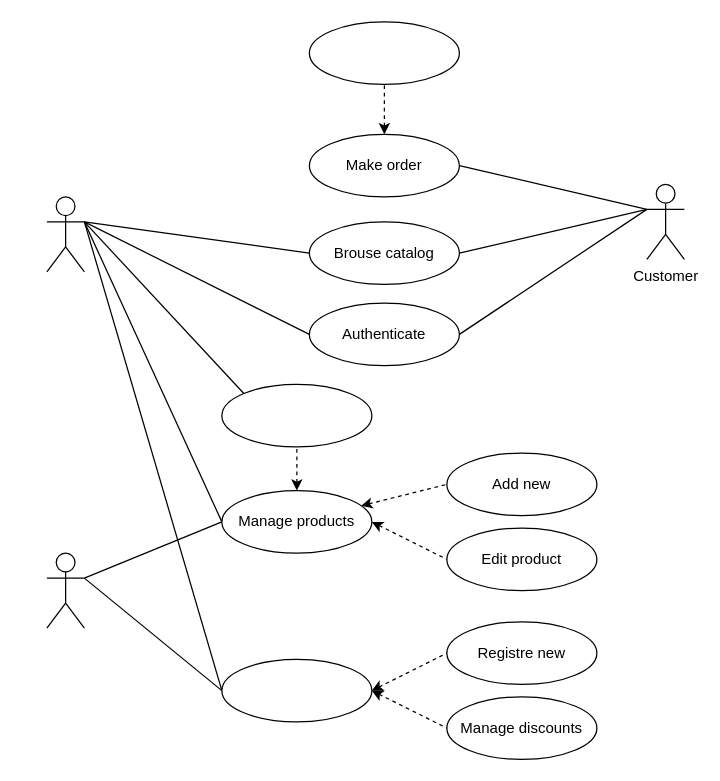
Some shapes in this 720 by 781 pixel diagram are drawn without their labels. The centre of each missing label's shape, as x and y in pixels:
Administrator: the point at 65,234
Delete products: the point at 296,415
Fill cart: the point at 383,52
Manage user: the point at 296,690
Manager: the point at 65,590
